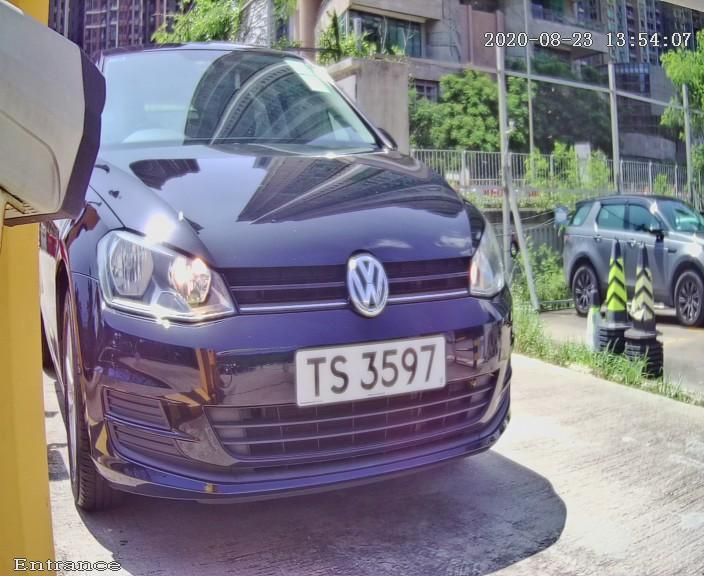Car: (16, 8, 557, 553)
License Plate: (269, 318, 483, 430)
